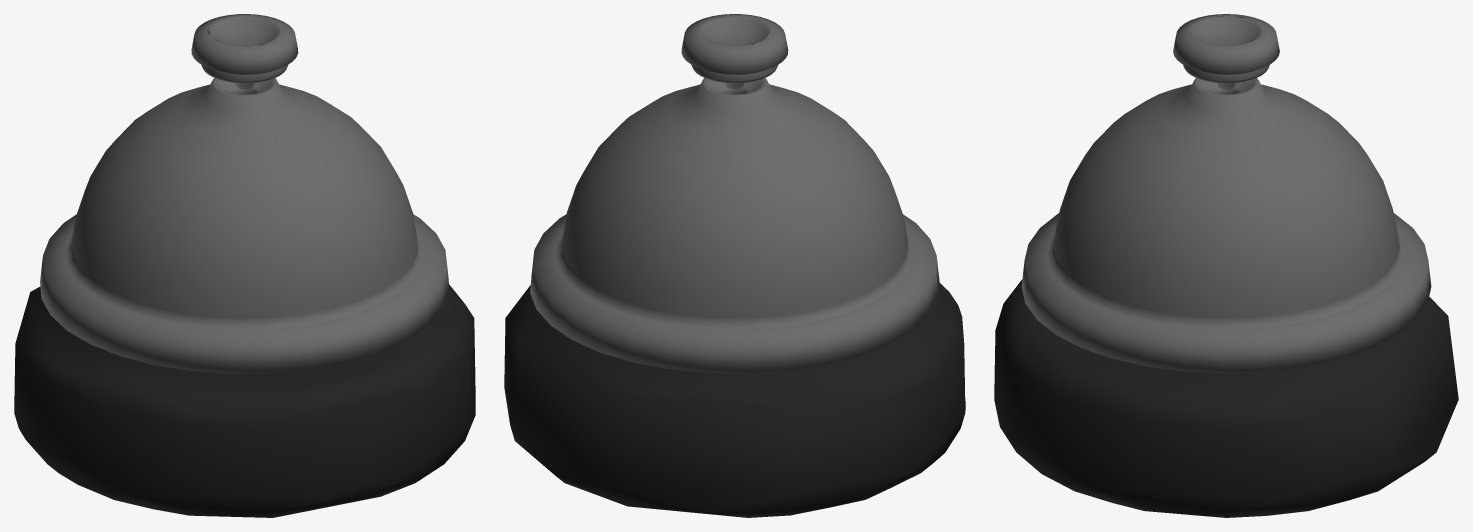
Rendered from NewSilverTableBell.fbx.
3 views of the same model, side by side, from view 1: azimuth 30°, elevation 25°; view 2: azimuth 150°, elevation 25°; view 3: azimuth 270°, elevation 25° (orthographic).
Visible parts, largest first — view 1: Sphere, Cylinder, Sphere.001; view 2: Sphere, Cylinder, Sphere.001; view 3: Sphere, Cylinder, Sphere.001.
Boxes of the visible parts, x1=… form: Sphere: x1=40, y1=78, x2=449, y2=373; Cylinder: x1=14, y1=284, x2=475, y2=517; Sphere.001: x1=191, y1=14, x2=298, y2=89; Sphere: x1=530, y1=78, x2=939, y2=373; Cylinder: x1=504, y1=283, x2=965, y2=517; Sphere.001: x1=681, y1=14, x2=788, y2=89; Sphere: x1=1021, y1=78, x2=1431, y2=373; Cylinder: x1=994, y1=280, x2=1458, y2=517; Sphere.001: x1=1173, y1=14, x2=1279, y2=89.
Bounding box in the file's own units: 200 × 190 × 200.
